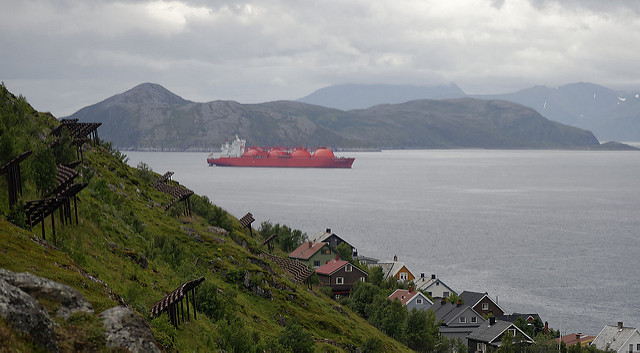LNG_ship: (203, 135, 357, 173)
